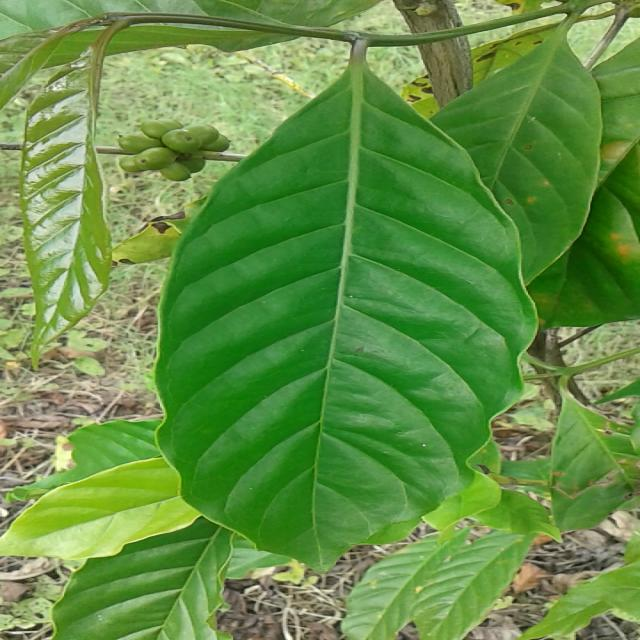Sanas: (152, 72, 540, 574)
